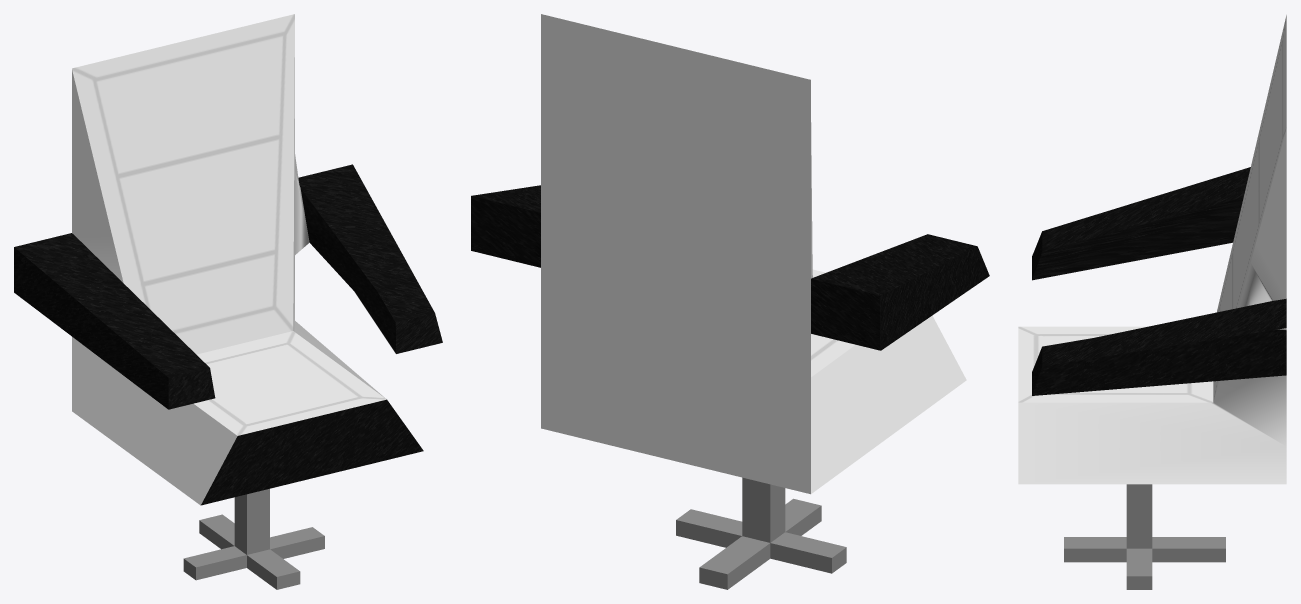
The model's file is officeChair 1.fbx.
3 views of the same model, side by side, from view 1: azimuth 30°, elevation 25°; view 2: azimuth 150°, elevation 25°; view 3: azimuth 270°, elevation 25° (orthographic). The views are drawn at different scales.
Parts seen in each view (by area): view 1: officeChair; view 2: officeChair; view 3: officeChair.
Part boxes in pixels (left/top/right/bottom): officeChair: left=14, top=14, right=442, bottom=589; officeChair: left=471, top=14, right=989, bottom=589; officeChair: left=1018, top=15, right=1286, bottom=589.
Bounding box in the file's own units: 1.52 × 2 × 1.
